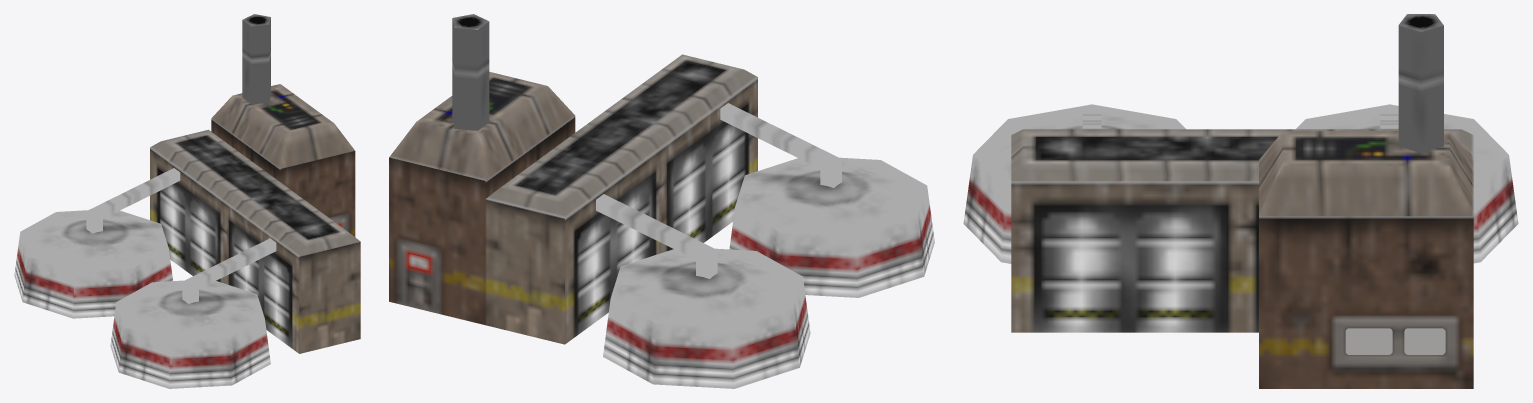
Rendered from purificationplant.glb.
The picture shows the model from 3 angles, left to right: view 1: azimuth 30°, elevation 25°; view 2: azimuth 150°, elevation 25°; view 3: azimuth 270°, elevation 25°; orthographic projection. The views are drawn at different scales.
Parts seen in each view (by area): view 1: PurificationPlant; view 2: PurificationPlant; view 3: PurificationPlant, LitWin_PurificationPlant.
Boxes of the visible parts, <box> form: PurificationPlant: <box>14,14,360,388</box>; PurificationPlant: <box>389,14,934,388</box>; PurificationPlant: <box>963,14,1518,388</box>; LitWin_PurificationPlant: <box>1345,328,1445,354</box>.
Size of the model in its own units: 15.04 by 10.63 by 16.07.
Materials: 1 (1 with a texture image).
